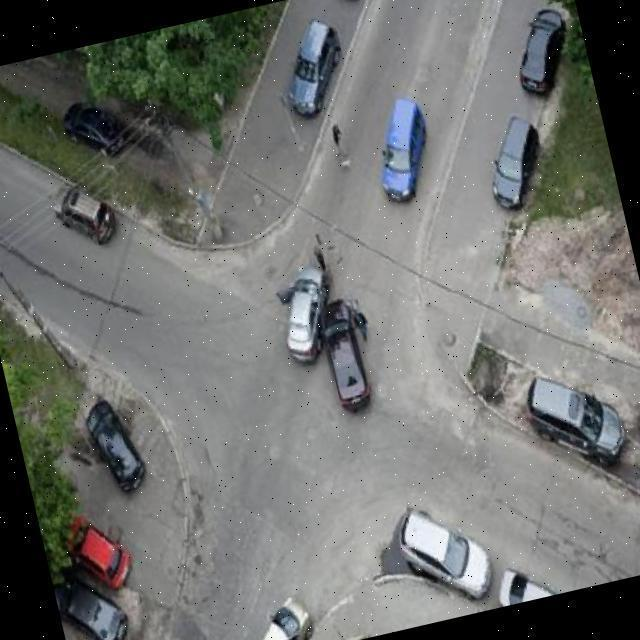accident: (266, 253, 378, 426)
